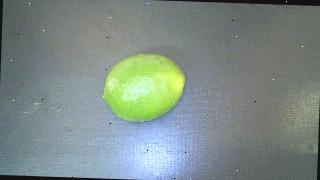EXPORTACION: (102, 52, 186, 123)
